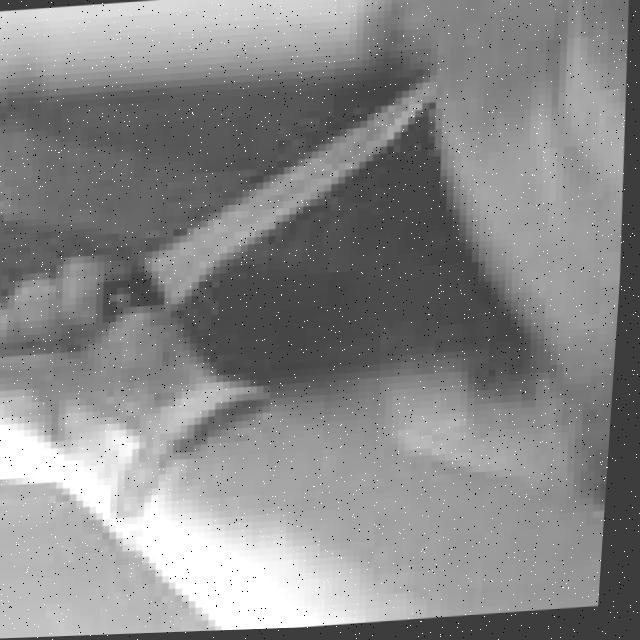knife: (119, 56, 466, 310)
